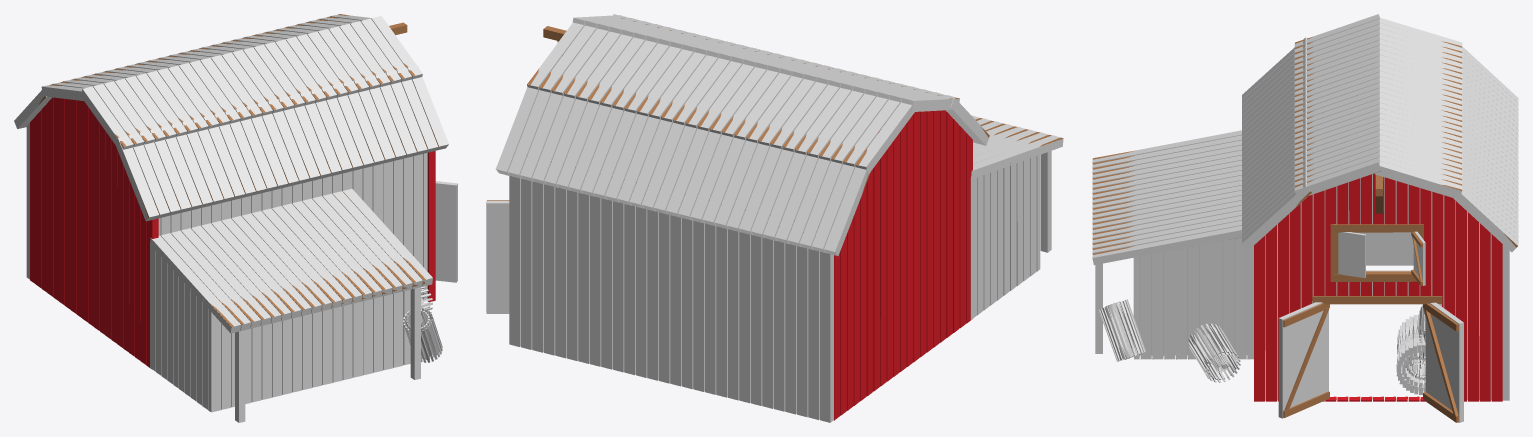
Rendered from сарай.fbx.
3 views of the same model, side by side, from view 1: azimuth 30°, elevation 25°; view 2: azimuth 150°, elevation 25°; view 3: azimuth 270°, elevation 25° (orthographic). The views are drawn at different scales.
Visible parts, largest first — view 1: Cube.012, Cube.053; view 2: Cube.012; view 3: Cube.012, Cube.057, Cube.052, Cube.053.
Part boxes in pixels (bbox=[...]): Cube.012: bbox=[14, 14, 457, 422]; Cube.053: bbox=[403, 307, 442, 362]; Cube.012: bbox=[486, 14, 1063, 422]; Cube.012: bbox=[1092, 14, 1518, 422]; Cube.057: bbox=[1396, 305, 1425, 394]; Cube.052: bbox=[1188, 323, 1240, 382]; Cube.053: bbox=[1098, 299, 1145, 361].
Size of the model in its own units: 1695 by 1146 by 1822.
